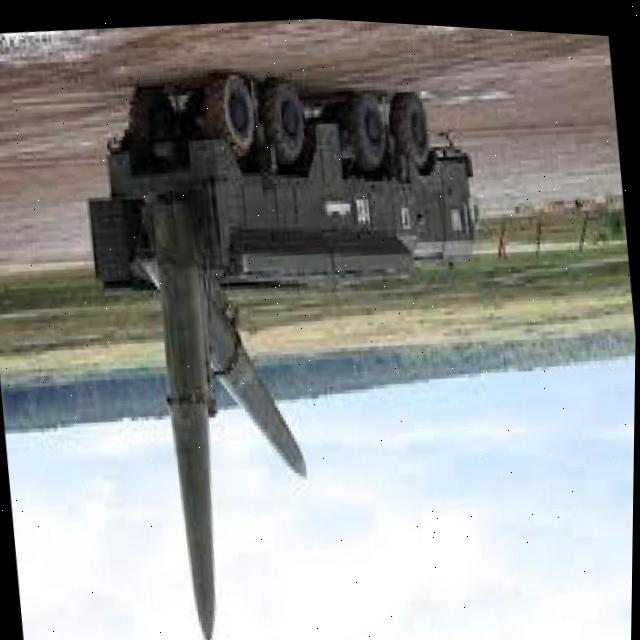missile: (146, 235, 326, 498), (140, 243, 240, 640)
